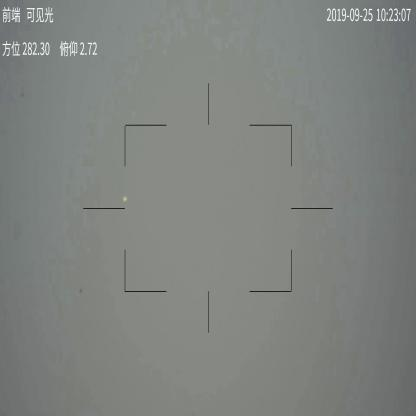uav: (122, 197, 128, 202)
